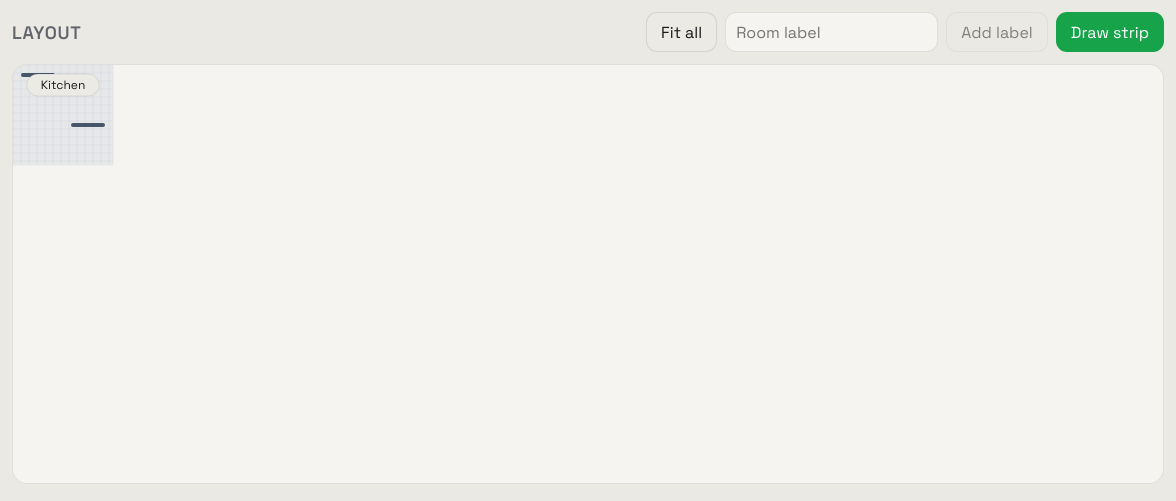
draw flow › Backspace undoes the last vertex; Escape cancels drawing
Click the button "Draw strip": (1110, 32) [1056, 12, 1164, 52]
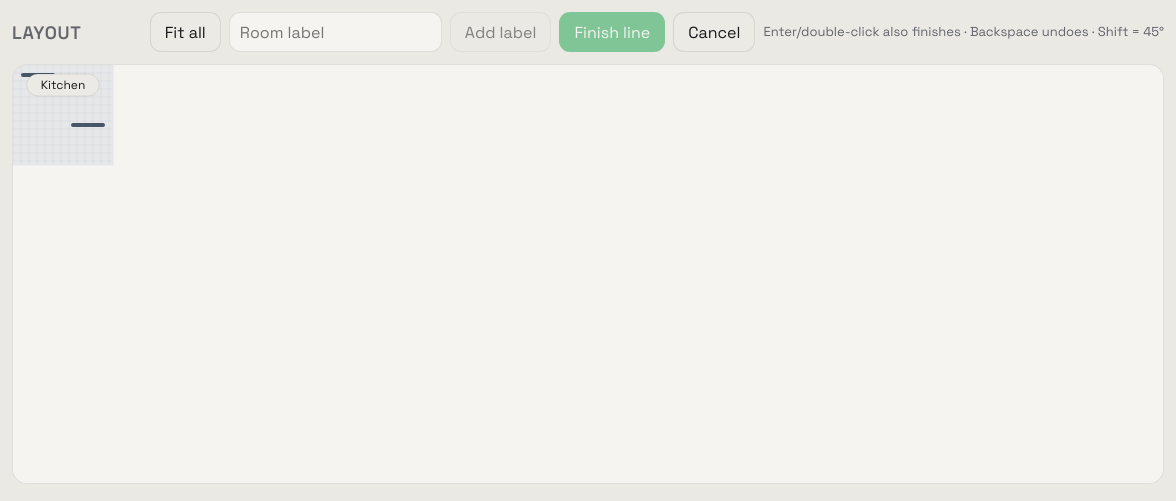
Click the icon with test id "layout-canvas": (588, 140) [13, 65, 1163, 215]
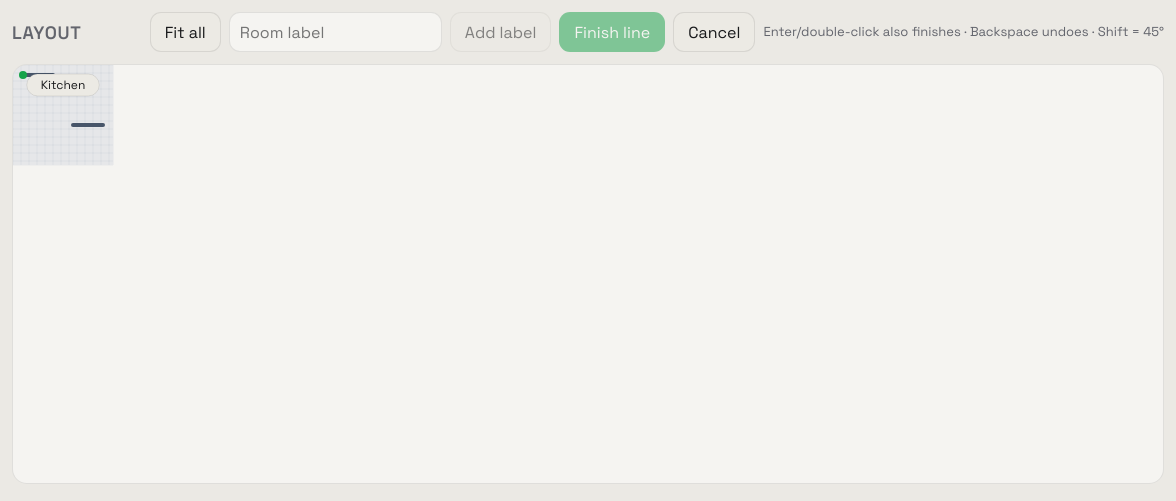
Click the icon with test id "layout-canvas": (588, 140) [13, 65, 1163, 215]
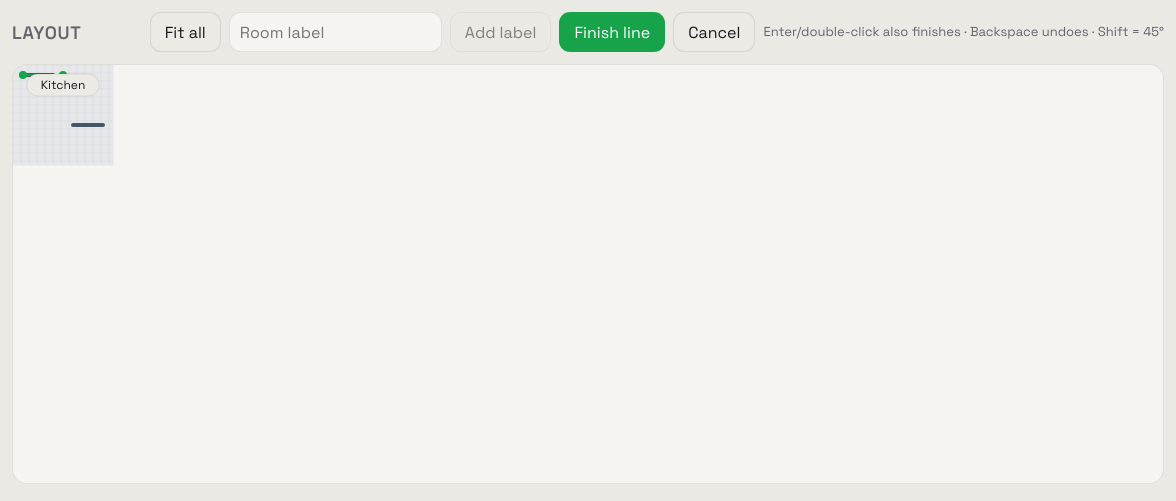
Click the icon with test id "layout-canvas": (588, 140) [13, 65, 1163, 215]
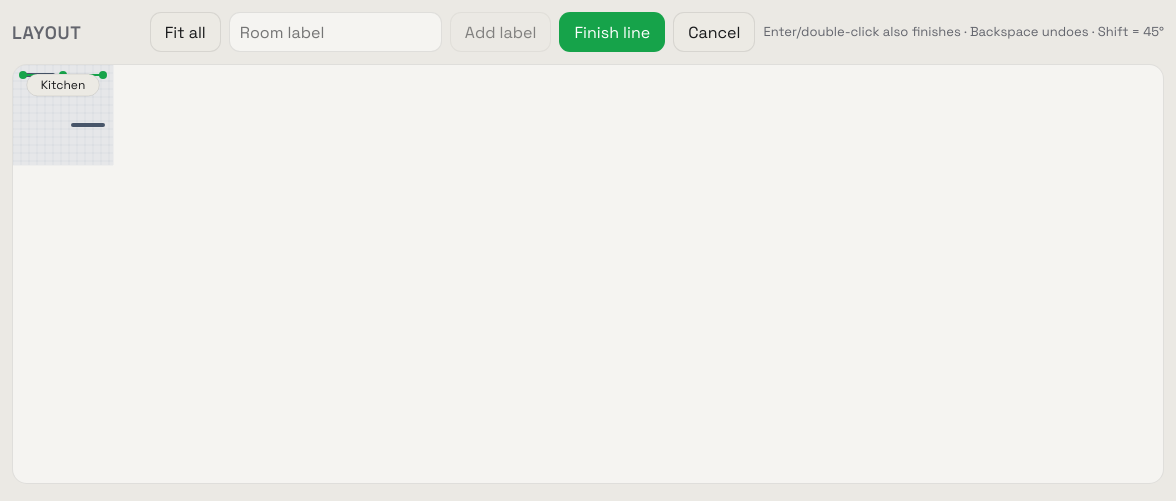
Press Backspace
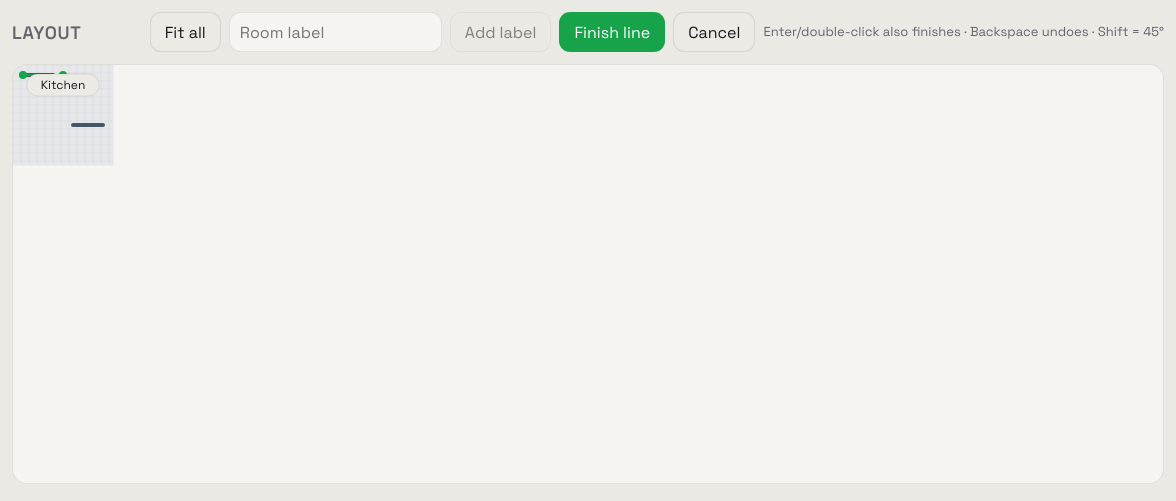
Press Escape
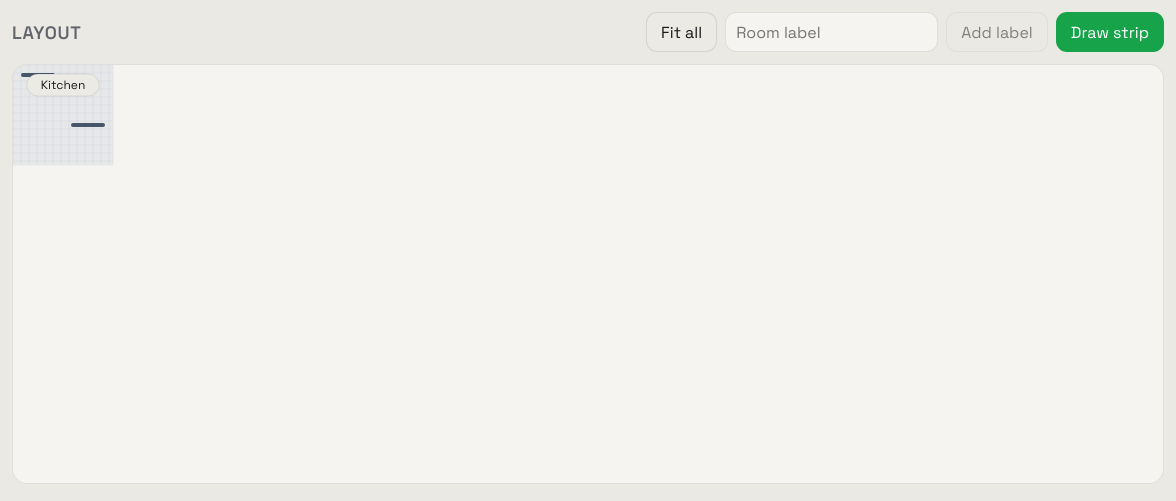
Expected: the button "Draw strip" is shown, [1056, 12, 1164, 52]
